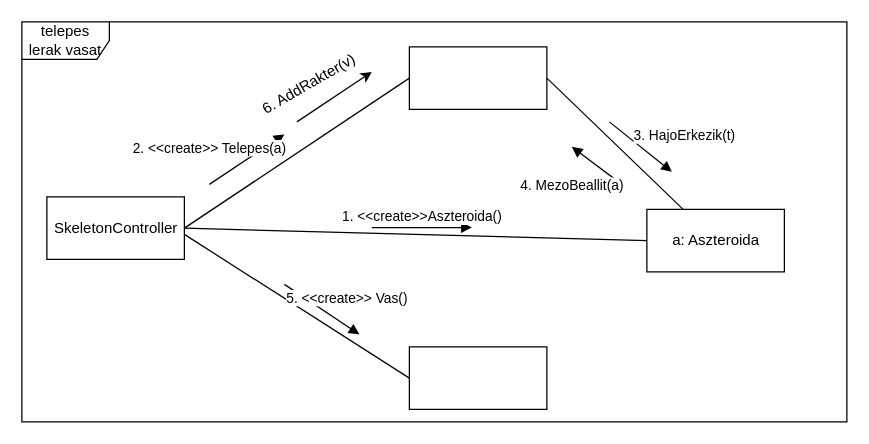
The diagram is 869 pixels wide and 444 high, and some of its shapes have lost their labels. Here are the shapes that lost their labels. From the top down, the centre of each, then its label:
(477,77): t: Telepes
(477,377): v: Vas
